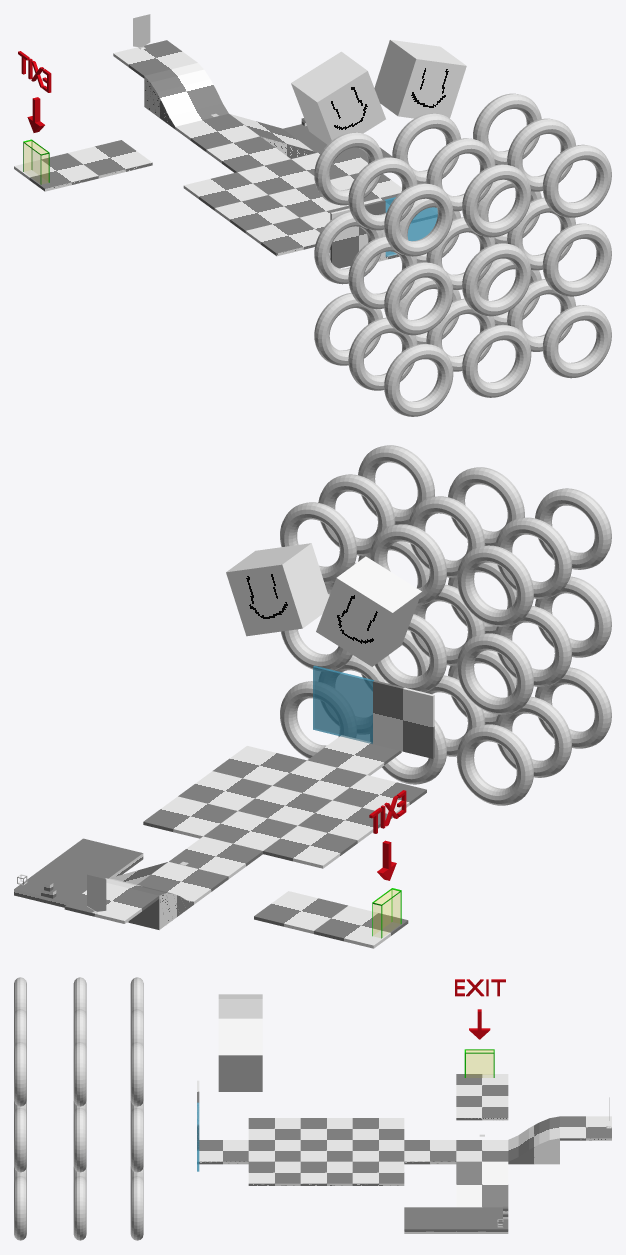
File: test_map.gltf
The picture shows the model from 3 angles, top to bottom: view 1: azimuth 30°, elevation 25°; view 2: azimuth 150°, elevation 25°; view 3: azimuth 270°, elevation 25°; orthographic projection. The views are drawn at different scales.
Visible parts, largest first — view 1: Cube.001, Cube.008, Plane.001, Torus.022, Torus.025, Torus.026, Torus.019, Torus.020, Torus.021, Torus.018, Torus.024, Torus.023 (+37 smaller); view 2: Cube.001, Cube.008, Plane.019, Plane.018, Torus.016, Torus.015, Torus.017, Torus.012, Torus.008, Torus.026, Torus.014, Torus.011 (+38 smaller); view 3: Cube.008, Plane.002, Plane.001, Cube.004, Cube.003, Plane.005, Plane.006, Plane.013, Plane.016, Plane.012, Plane.004, Plane.017 (+26 smaller).
Part boxes in pixels (bbox=[...]): Cube.001: bbox=[291, 51, 385, 144]; Cube.008: bbox=[374, 39, 466, 118]; Plane.001: bbox=[144, 63, 228, 129]; Torus.022: bbox=[542, 223, 611, 296]; Torus.025: bbox=[384, 262, 453, 335]; Torus.026: bbox=[384, 183, 453, 256]; Torus.019: bbox=[462, 243, 531, 316]; Torus.020: bbox=[462, 164, 531, 237]; Torus.021: bbox=[542, 305, 611, 378]; Torus.018: bbox=[462, 324, 531, 397]; Torus.024: bbox=[384, 344, 453, 416]; Torus.023: bbox=[542, 144, 611, 217]; Cube.001: bbox=[316, 556, 421, 666]; Cube.008: bbox=[226, 543, 328, 636]; Plane.019: bbox=[373, 680, 434, 758]; Plane.018: bbox=[313, 665, 373, 743]; Torus.016: bbox=[456, 633, 533, 714]; Torus.015: bbox=[456, 724, 533, 805]; Torus.017: bbox=[457, 545, 533, 626]; Torus.012: bbox=[280, 681, 356, 758]; Torus.008: bbox=[495, 517, 572, 598]; Torus.026: bbox=[535, 488, 611, 569]; Torus.014: bbox=[280, 502, 357, 583]; Torus.011: bbox=[370, 524, 446, 605]; Cube.008: bbox=[218, 1018, 262, 1091]; Plane.002: bbox=[456, 1161, 508, 1207]; Plane.001: bbox=[508, 1116, 559, 1164]; Cube.004: bbox=[404, 1207, 456, 1233]; Cube.003: bbox=[456, 1207, 508, 1233]; Plane.005: bbox=[456, 1096, 508, 1120]; Plane.006: bbox=[404, 1140, 456, 1164]; Plane.013: bbox=[300, 1161, 352, 1185]; Plane.016: bbox=[248, 1161, 300, 1185]; Plane.012: bbox=[352, 1161, 404, 1185]; Plane.004: bbox=[560, 1116, 611, 1140]; Plane.017: bbox=[197, 1140, 248, 1164].
Bounding box in the file's own units: 120 × 85.81 × 230.
6 materials, 2 textured.
